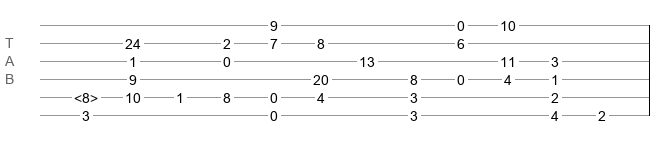0: (223, 54, 231, 64), (270, 90, 278, 100), (270, 108, 278, 118), (457, 72, 465, 82), (457, 18, 465, 28)
1: (129, 54, 137, 64), (176, 90, 184, 100), (551, 72, 559, 82)
10: (125, 90, 141, 100), (500, 18, 516, 28)
11: (500, 54, 516, 64)
13: (359, 54, 375, 64)
2: (223, 36, 231, 46), (551, 90, 559, 100), (598, 108, 606, 118)
20: (313, 72, 329, 82)
24: (125, 36, 141, 46)
3: (82, 108, 90, 118), (410, 90, 418, 100), (410, 108, 418, 118), (551, 54, 559, 64)
4: (317, 90, 325, 100), (504, 72, 512, 82), (551, 108, 559, 118)
6: (457, 36, 465, 46)
7: (270, 36, 278, 46)
8: (223, 90, 231, 100), (317, 36, 325, 46), (410, 72, 418, 82)
9: (129, 72, 137, 82), (270, 18, 278, 28)
harmonic: (74, 90, 98, 100)
